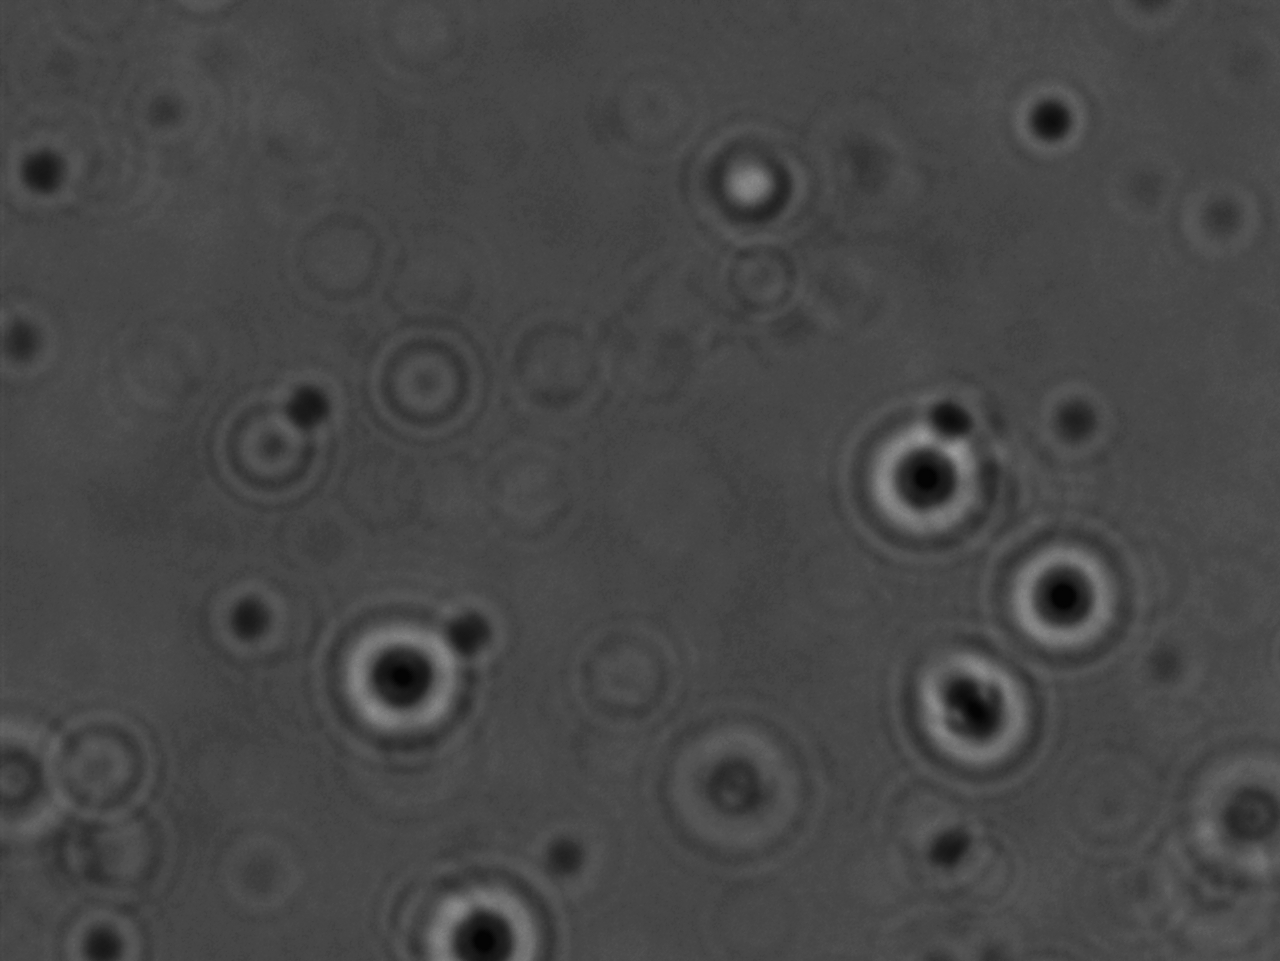depth:-24: (310, 600, 488, 758), (383, 829, 592, 961), (979, 518, 1147, 671), (838, 390, 985, 541), (903, 635, 1051, 781)
